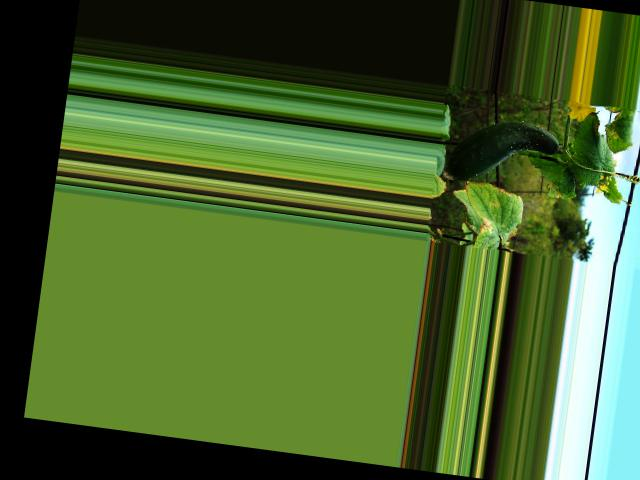cucumber: (445, 113, 563, 193)
